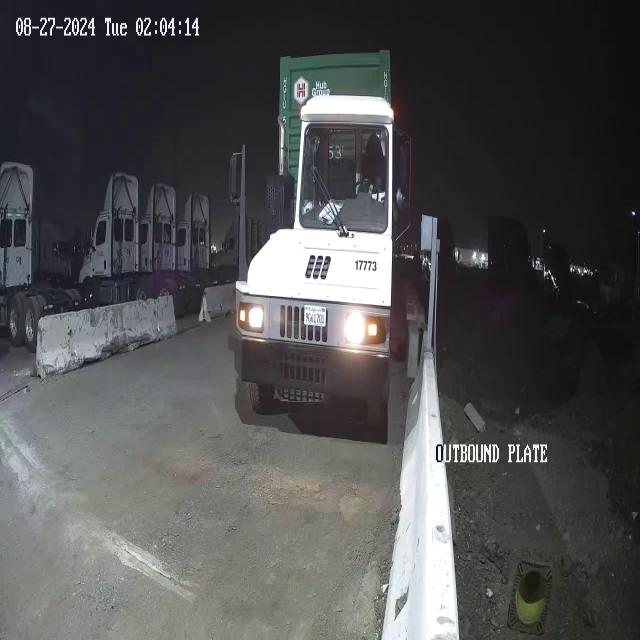CONTAINER: (276, 48, 394, 304)
